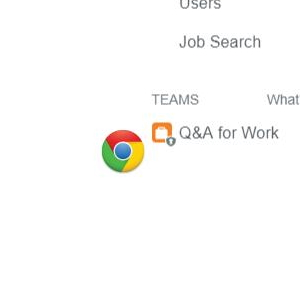chrome: (101, 129, 144, 173)
